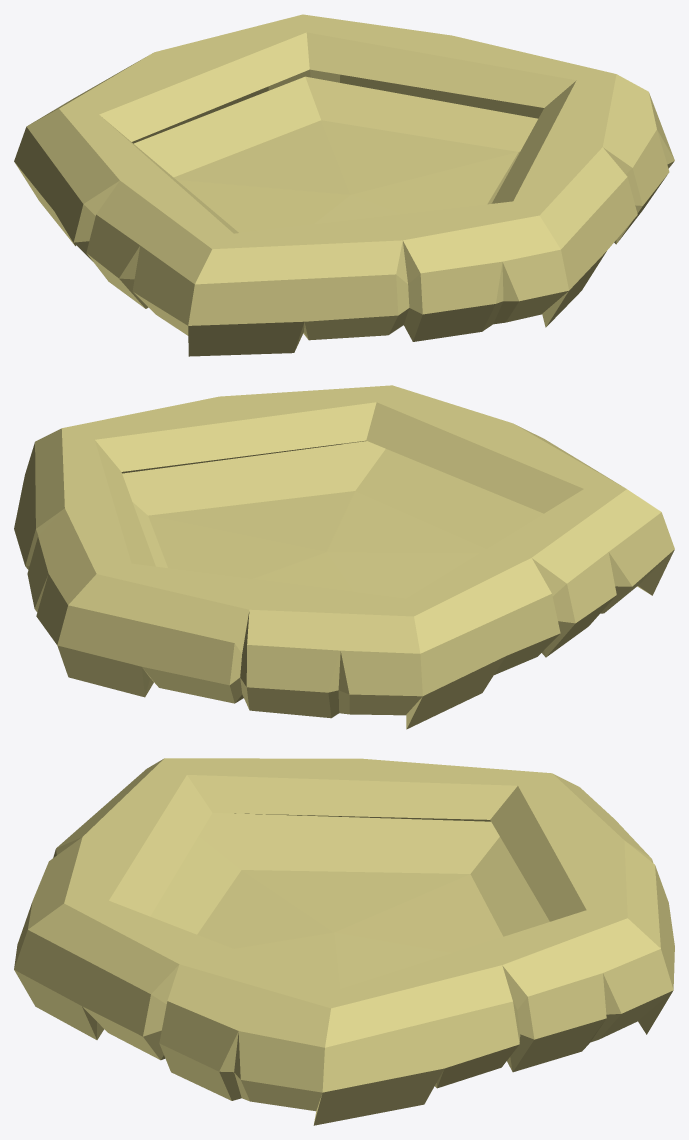
File: StrawBed.fbx
3 views of the same model, one above another, from view 1: azimuth 30°, elevation 25°; view 2: azimuth 150°, elevation 25°; view 3: azimuth 270°, elevation 25° (orthographic). The views are drawn at different scales.
Parts seen in each view (by area): view 1: pTorus2, pSphere3, pTorus9, pTorus6, pTorus7, pTorus8; view 2: pSphere3, pTorus8, pTorus9, pTorus7, pTorus6, pTorus2; view 3: pSphere3, pTorus7, pTorus6, pTorus9, pTorus8, pTorus2.
Part boxes in pixels (<box>): pTorus2: <box>188,201,568,356</box>; pSphere3: <box>134,76,537,232</box>; pTorus9: <box>14,108,238,335</box>; pTorus6: <box>491,74,674,327</box>; pTorus7: <box>303,14,615,118</box>; pTorus8: <box>28,14,310,143</box>; pSphere3: <box>122,441,543,598</box>; pTorus8: <box>57,563,422,718</box>; pTorus9: <box>406,489,674,729</box>; pTorus7: <box>14,428,155,644</box>; pTorus6: <box>62,385,391,473</box>; pTorus2: <box>366,385,674,595</box>; pSphere3: <box>150,813,549,989</box>; pTorus7: <box>313,910,673,1125</box>; pTorus6: <box>14,900,338,1111</box>; pTorus9: <box>165,758,551,821</box>; pTorus8: <box>490,773,674,1034</box>; pTorus2: <box>14,758,212,968</box>.
Bounding box in the file's own units: 237 × 59.25 × 226.
